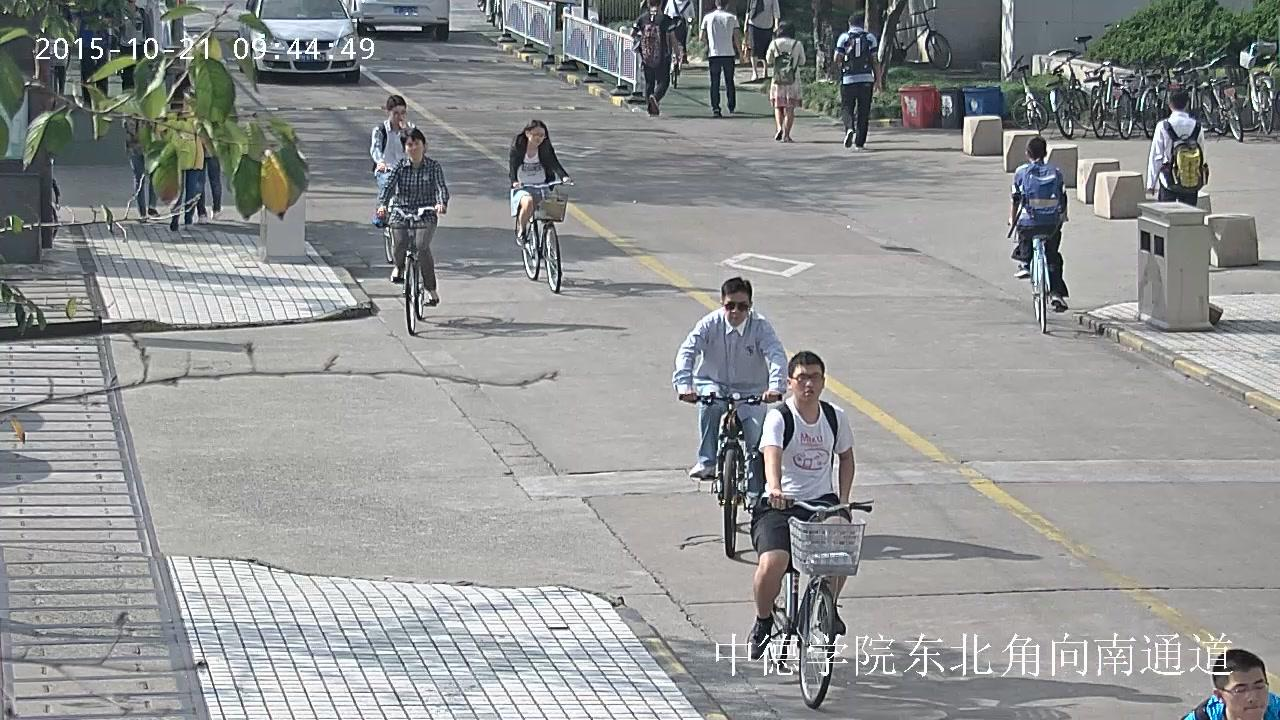face: (1222, 667, 1269, 720), (790, 363, 822, 402), (724, 291, 749, 326), (405, 137, 423, 158), (529, 126, 545, 146), (391, 105, 405, 125), (126, 0, 135, 7)
